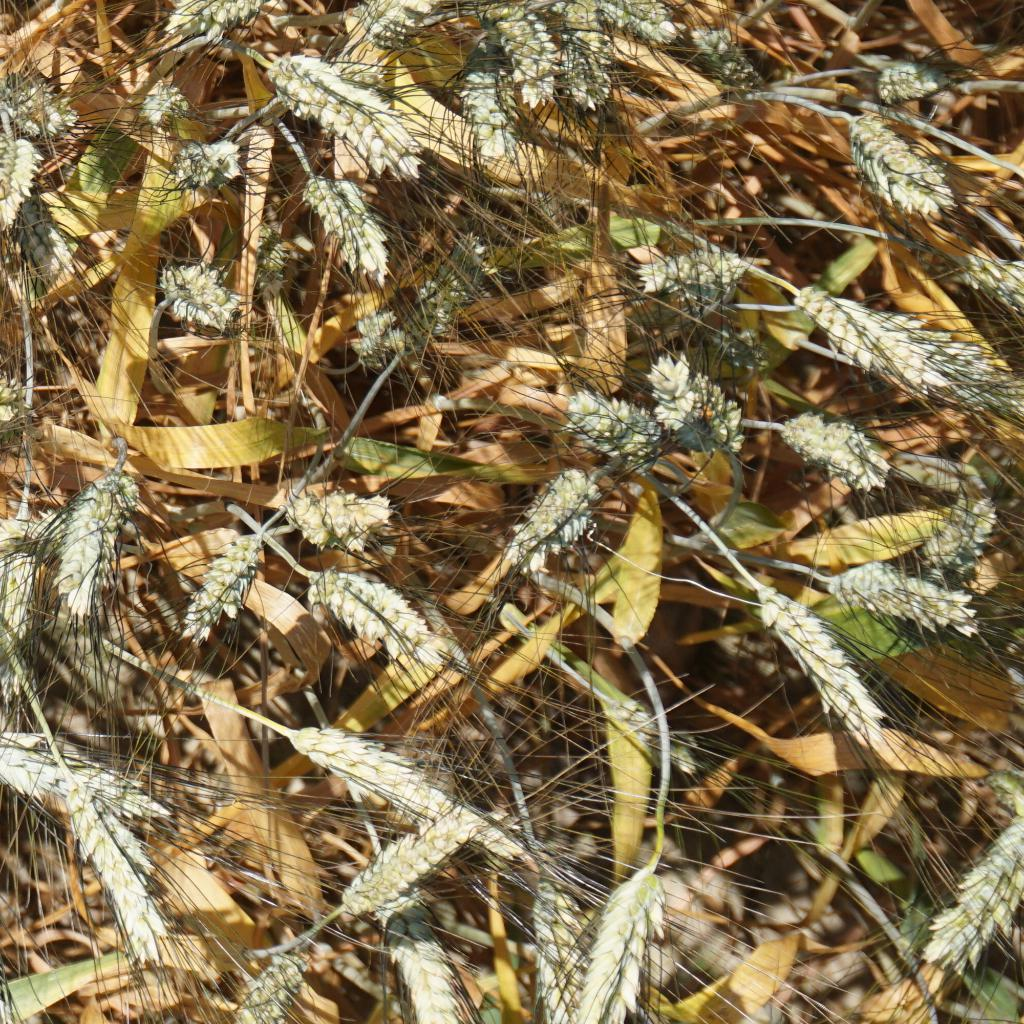0-0: (296, 723, 517, 851), (37, 764, 173, 948), (748, 580, 890, 747), (0, 719, 173, 821), (276, 46, 413, 169), (792, 287, 937, 386), (931, 813, 1024, 963), (293, 565, 434, 660), (870, 301, 1003, 401), (330, 806, 456, 909), (836, 115, 961, 217), (497, 461, 604, 578), (598, 863, 677, 1020), (820, 558, 968, 635), (384, 896, 473, 1024), (295, 168, 393, 280), (780, 408, 897, 497), (69, 467, 141, 606), (404, 231, 493, 339), (0, 508, 50, 695), (531, 869, 584, 1024), (285, 483, 401, 553), (179, 531, 259, 632), (568, 392, 657, 472), (920, 487, 998, 576), (629, 243, 738, 306), (457, 64, 522, 159), (499, 2, 559, 102), (166, 131, 246, 203), (156, 264, 246, 327), (233, 954, 310, 1024), (653, 358, 712, 448), (0, 73, 73, 139), (556, 24, 616, 103), (13, 188, 65, 278), (338, 310, 414, 371), (871, 51, 948, 110), (310, 41, 397, 93), (946, 247, 1024, 303), (0, 843, 26, 1010), (687, 25, 756, 86), (691, 378, 743, 456), (239, 218, 290, 296), (166, 0, 303, 28), (0, 498, 69, 550), (587, 0, 677, 38), (350, 0, 474, 25), (0, 129, 31, 229), (549, 0, 613, 45), (716, 327, 771, 376), (138, 80, 192, 119), (0, 365, 20, 423)
